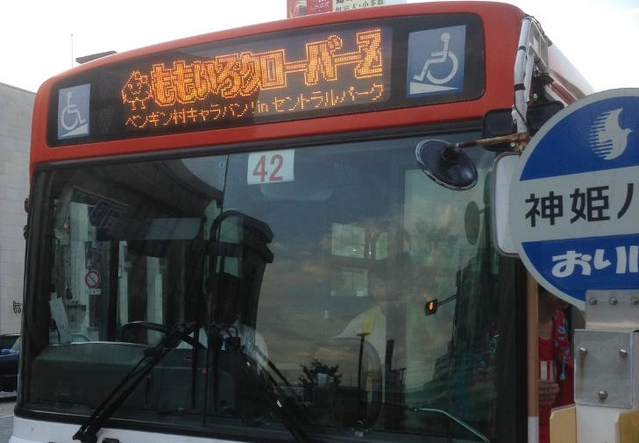destination: (98, 24, 395, 137)
